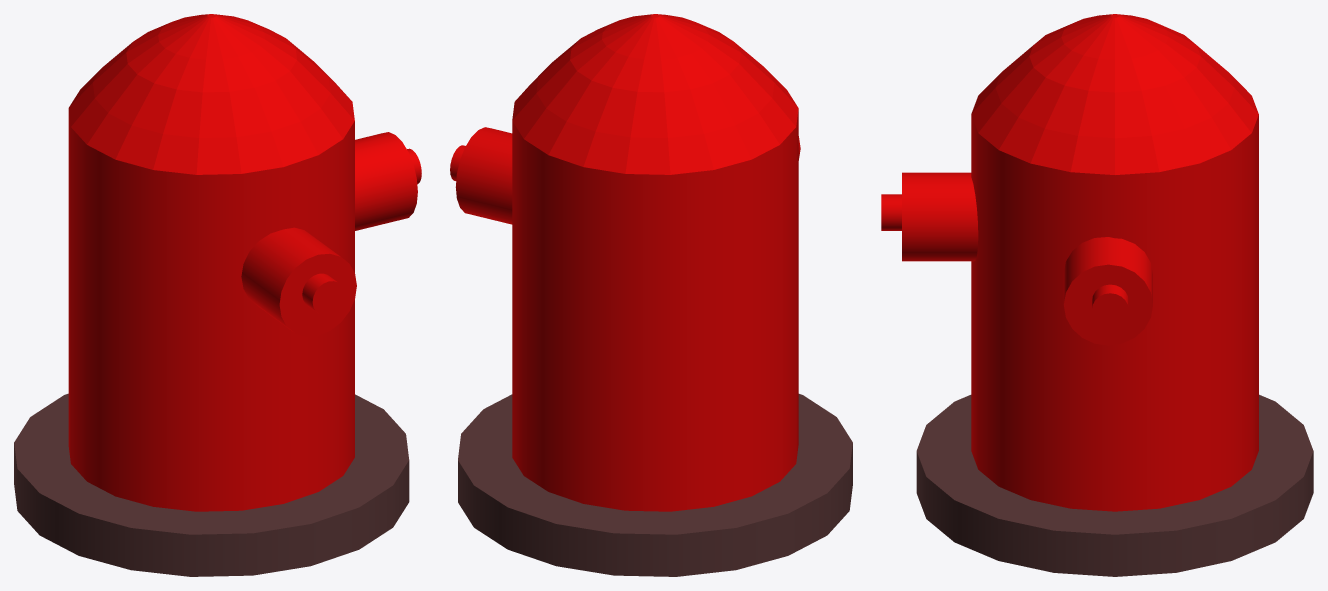
File: hidrant.fbx
The picture shows the model from 3 angles, left to right: view 1: azimuth 30°, elevation 25°; view 2: azimuth 150°, elevation 25°; view 3: azimuth 270°, elevation 25°; orthographic projection.
Visible parts, largest first — view 1: hidrant; view 2: hidrant; view 3: hidrant.
Boxes of the visible parts, left/top/right/bottom form: hidrant: left=14, top=14, right=421, bottom=576; hidrant: left=450, top=14, right=852, bottom=576; hidrant: left=881, top=14, right=1313, bottom=576.
Bounding box in the file's own units: 3.3 × 4.06 × 3.33.
